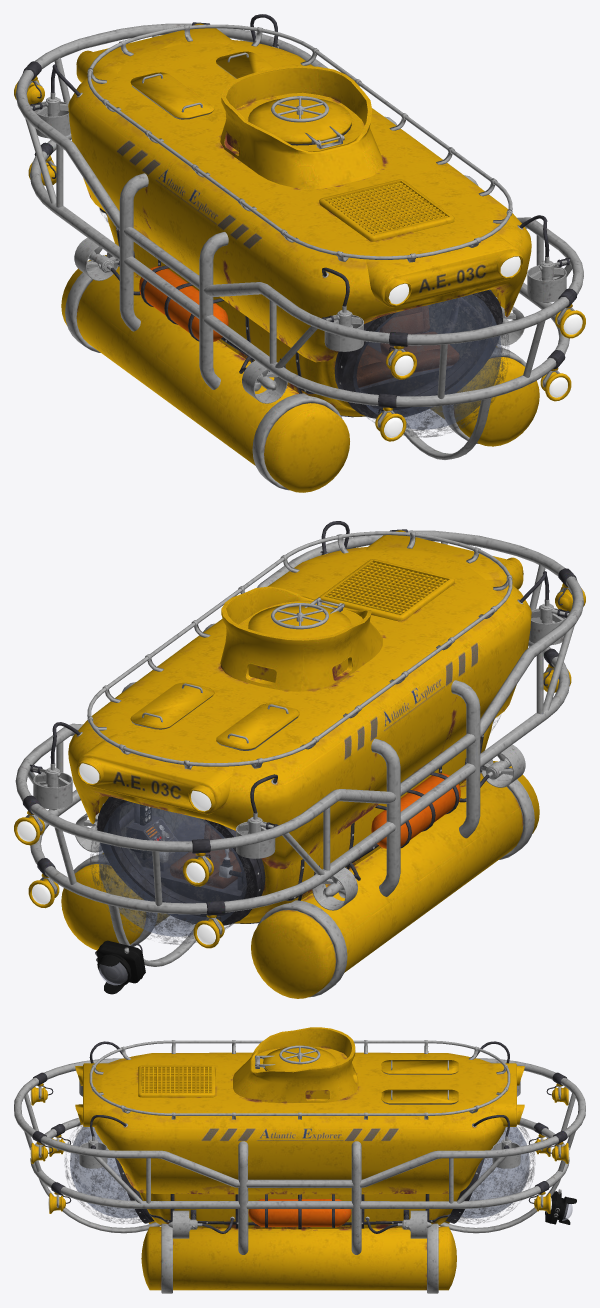
Rendered from atlantic-explorer-submarine.glb.
The picture shows the model from 3 angles, top to bottom: view 1: azimuth 30°, elevation 25°; view 2: azimuth 150°, elevation 25°; view 3: azimuth 270°, elevation 25°; orthographic projection. The views are drawn at different scales.
Visible parts, largest first — view 1: UpperHull.001_7, OutsideDetails02.001_3, LowerHull.001_6, OutsideDetails01.001_2, Transparency.002_4, InnerHull.001_0, Interior.001_5, Lights.002_1; view 2: UpperHull.001_7, OutsideDetails02.001_3, LowerHull.001_6, OutsideDetails01.001_2, Transparency.002_4, InnerHull.001_0, Interior.001_5, Lights.002_1; view 3: UpperHull.001_7, LowerHull.001_6, OutsideDetails02.001_3, OutsideDetails01.001_2, Transparency.002_4, InnerHull.001_0.
Boxes of the visible parts, <box> form: UpperHull.001_7: <box>68,23,531,362</box>; OutsideDetails02.001_3: <box>15,22,583,490</box>; LowerHull.001_6: <box>61,51,539,492</box>; OutsideDetails01.001_2: <box>14,14,585,441</box>; Transparency.002_4: <box>99,208,509,437</box>; InnerHull.001_0: <box>105,124,502,418</box>; Interior.001_5: <box>356,305,459,387</box>; Lights.002_1: <box>384,256,582,437</box>; UpperHull.001_7: <box>68,530,531,869</box>; OutsideDetails02.001_3: <box>15,529,583,997</box>; LowerHull.001_6: <box>61,562,539,998</box>; OutsideDetails01.001_2: <box>14,521,585,994</box>; Transparency.002_4: <box>90,715,500,985</box>; InnerHull.001_0: <box>97,719,494,925</box>; Interior.001_5: <box>126,803,243,890</box>; Lights.002_1: <box>17,763,215,944</box>; UpperHull.001_7: <box>75,1027,524,1194</box>; LowerHull.001_6: <box>139,1060,460,1290</box>; OutsideDetails02.001_3: <box>14,1040,585,1293</box>; OutsideDetails01.001_2: <box>31,1040,576,1238</box>; Transparency.002_4: <box>64,1121,572,1224</box>; InnerHull.001_0: <box>115,1068,484,1223</box>.
Bounding box in the file's own units: 3.24 × 3.28 × 8.11.
Materials: 8 (8 with a texture image).
